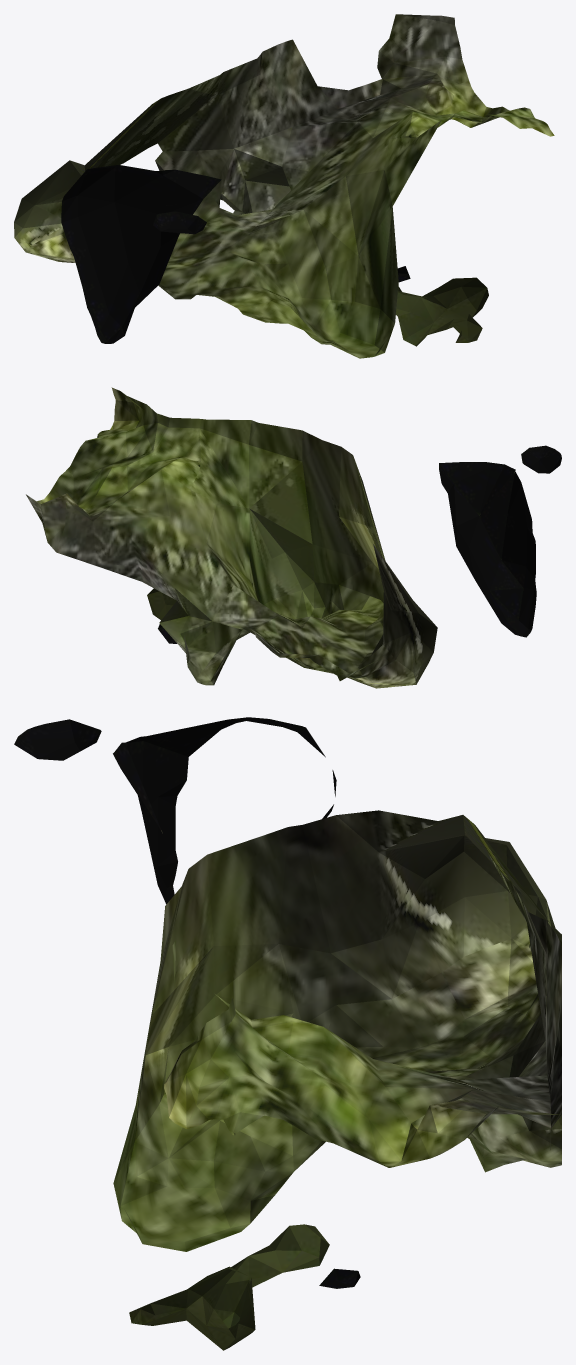
The picture shows the model from 3 angles, top to bottom: view 1: azimuth 30°, elevation 25°; view 2: azimuth 150°, elevation 25°; view 3: azimuth 270°, elevation 25°; orthographic projection. The views are drawn at different scales.
Bounding box in the file's own units: 2.95 × 1.48 × 1.98.
3 materials, 3 textured.
